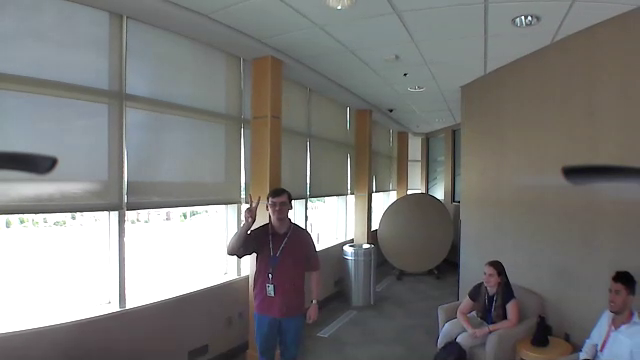peace: (235, 190, 263, 227)
